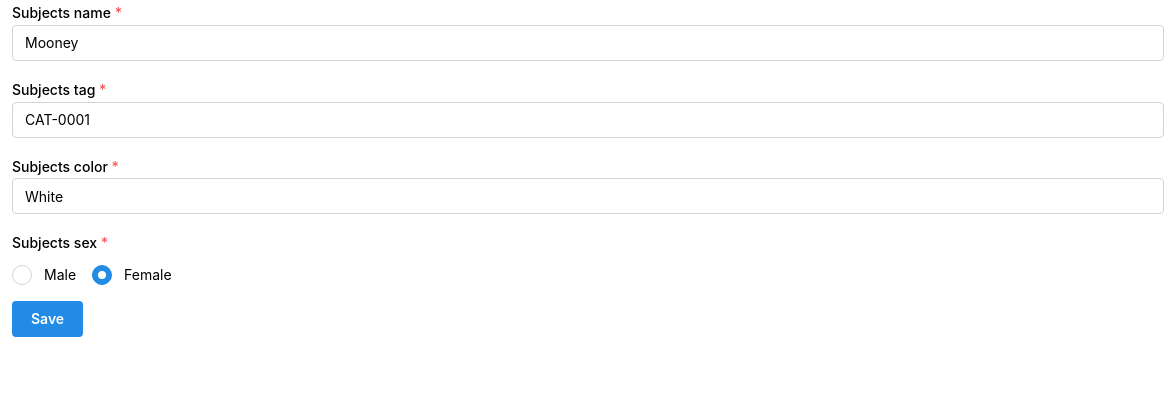
Scenario: <EditCatForm /> › Name, tag, color, are required
Clear the field with id "nameTextInput" at (588, 43), box x1=12 y1=25 x2=1164 y2=61
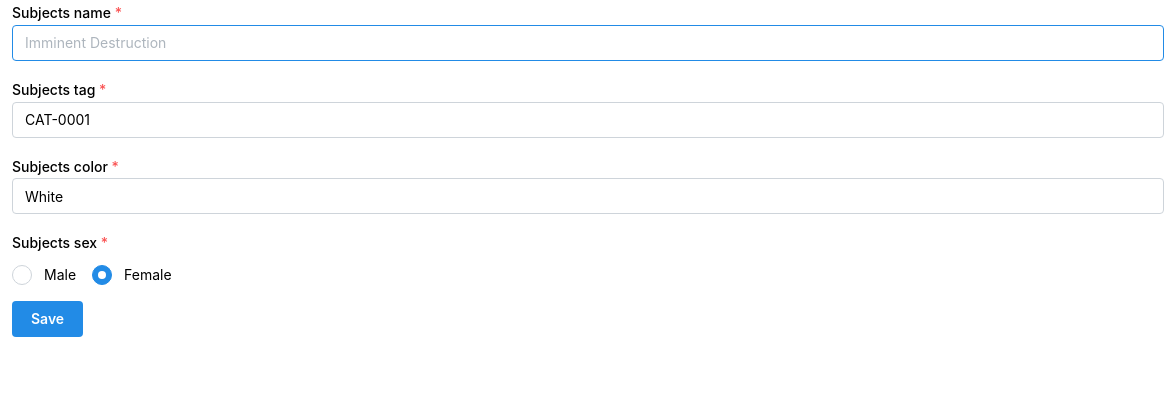
Clear the field with id "tagTextInput" at (588, 120), box x1=12 y1=102 x2=1164 y2=138
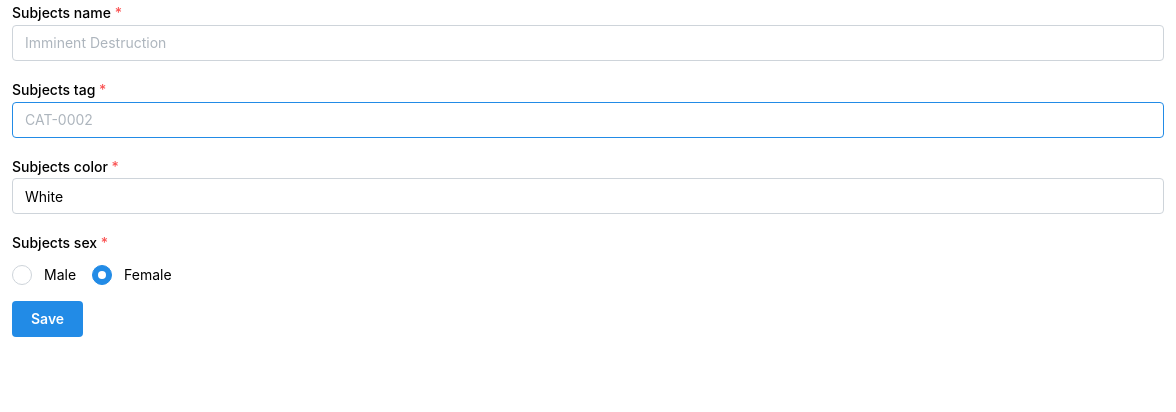
Clear the field with id "colorTextInput" at (588, 196), box x1=12 y1=178 x2=1164 y2=214
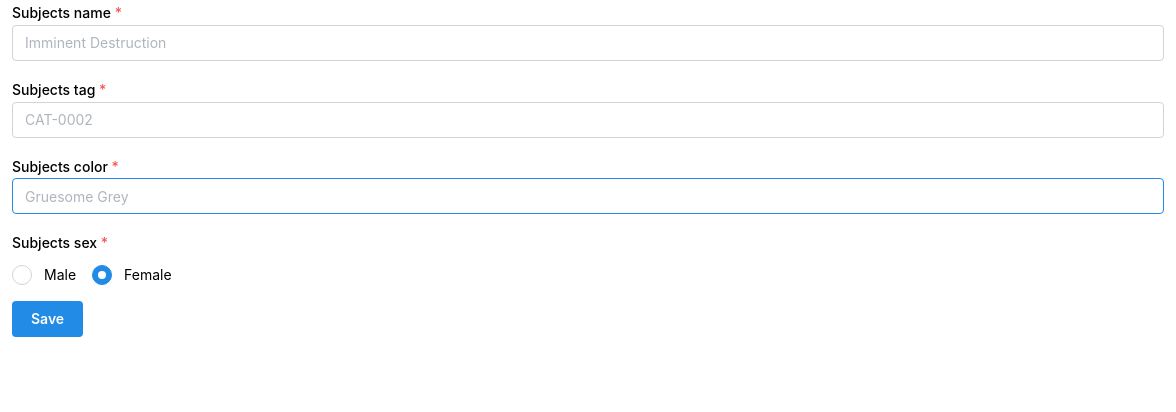
Click the button with id "submitButton" at (48, 319), box x1=12 y1=301 x2=83 y2=337
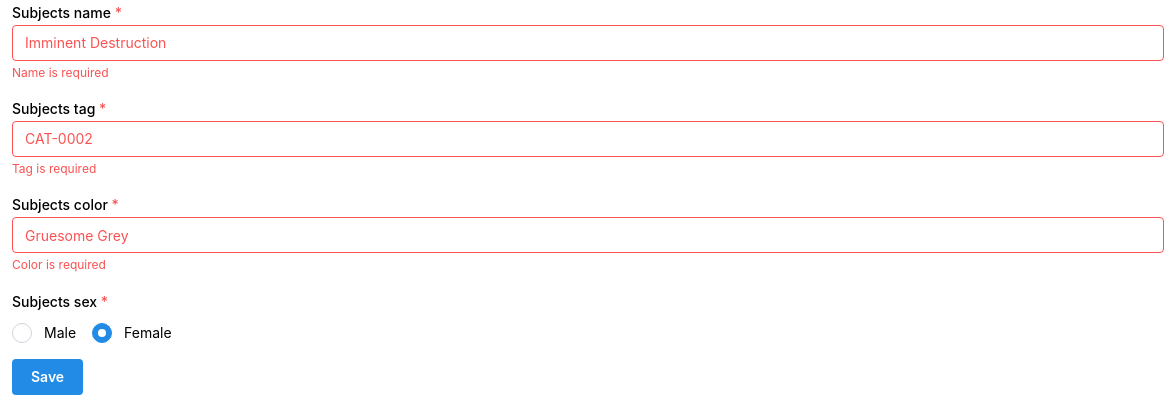
Expected: the text with id "nameTextInput-error" reads "Name is required", x1=12 y1=65 x2=109 y2=80
Expected: the text with id "tagTextInput-error" reads "Tag is required", x1=12 y1=161 x2=96 y2=176
Expected: the text with id "colorTextInput-error" reads "Color is required", x1=12 y1=257 x2=106 y2=272
